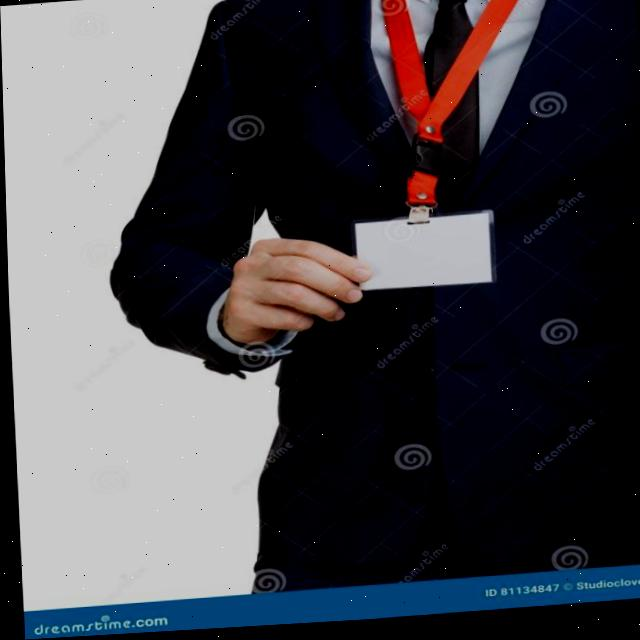id_card: (332, 0, 530, 306)
